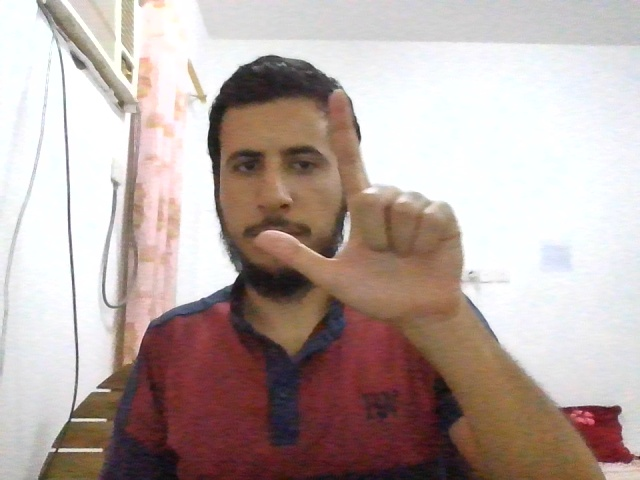Two: (254, 89, 464, 320)
